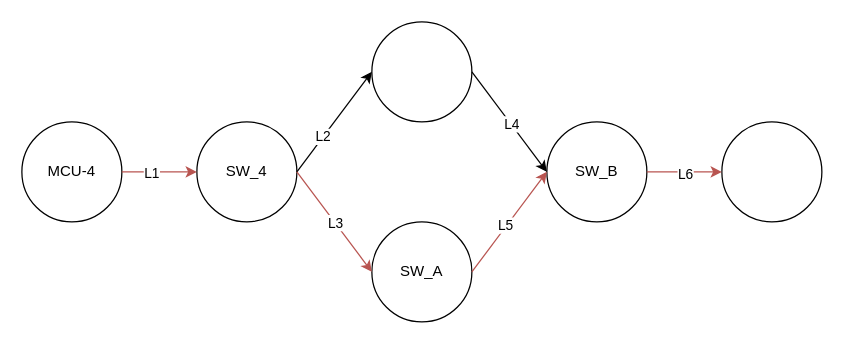
Some shapes in this 844 by 344 pixel diagram are drawn without their labels. The shapes that lost their labels are listed below. From the top down, each one's centre as x and y in pixels, then its label:
At (421,71): "SW_2".
At (771,171): "SGA".
